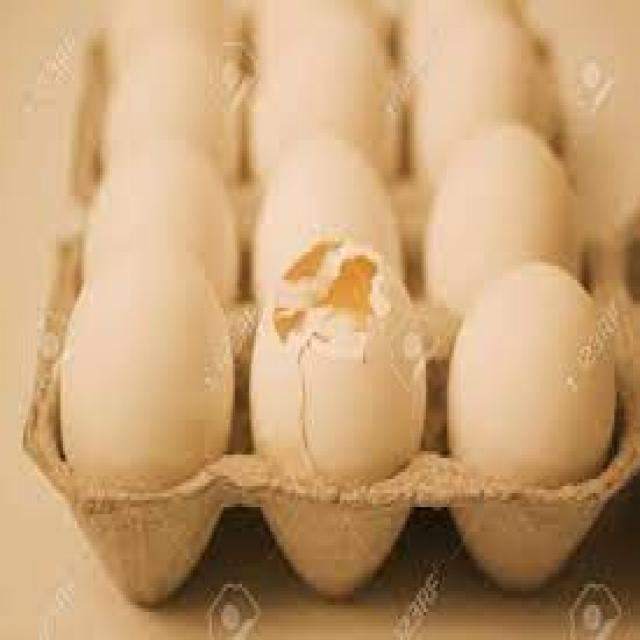biodegradable: (249, 224, 425, 502), (59, 254, 236, 472), (444, 261, 614, 471), (422, 122, 585, 276), (80, 139, 234, 278), (252, 134, 404, 250)
